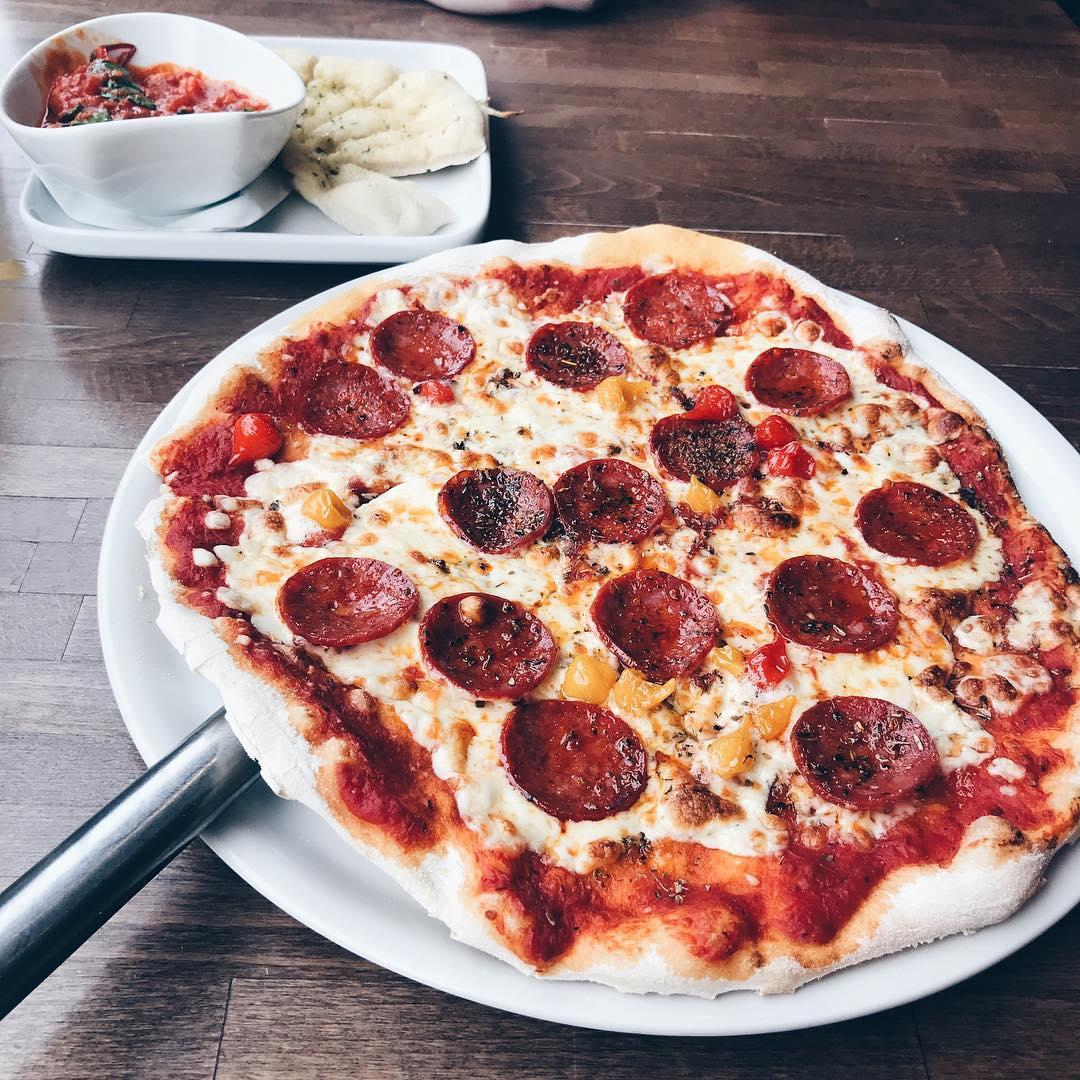Pepperoni: (500, 696, 648, 818), (794, 700, 936, 812), (592, 568, 717, 678), (422, 595, 555, 695), (278, 558, 422, 650), (769, 554, 899, 653), (552, 448, 665, 542), (857, 479, 978, 564), (439, 468, 551, 554), (302, 360, 412, 438), (652, 409, 758, 487), (370, 308, 476, 380), (621, 275, 725, 343), (746, 349, 851, 415), (527, 323, 628, 386)
Peppers: (282, 488, 351, 533), (709, 709, 754, 776), (565, 656, 615, 704), (616, 670, 675, 708), (595, 375, 648, 412), (755, 696, 794, 741), (683, 474, 721, 515), (707, 644, 748, 679)
Pizza: (157, 227, 1080, 997)
Tomatoes: (230, 409, 286, 461), (748, 637, 790, 689), (686, 386, 736, 418), (768, 444, 816, 476), (752, 415, 801, 444)
